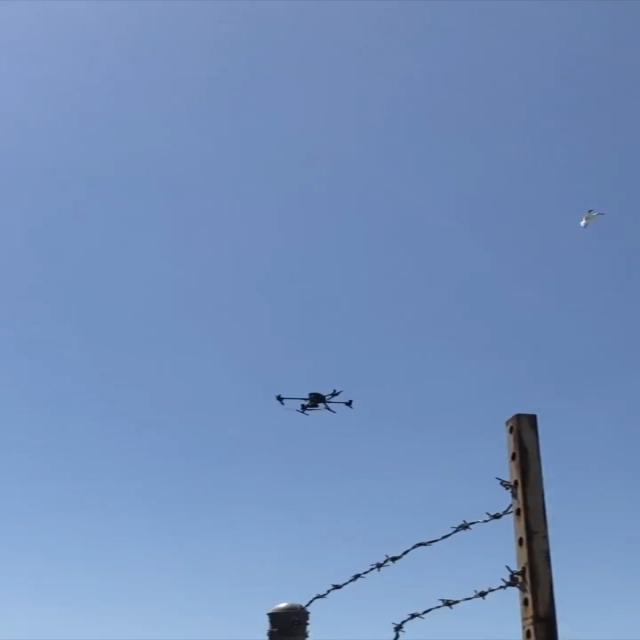bird: (578, 208, 606, 228)
drone: (274, 388, 354, 416)
